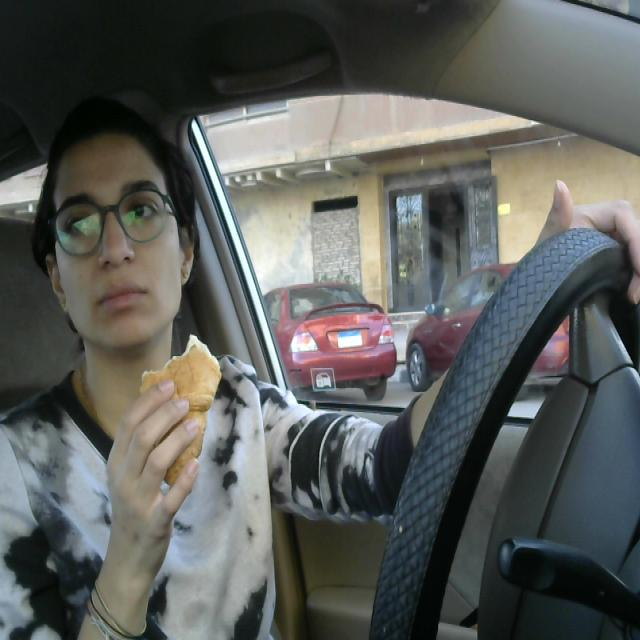eating: (138, 329, 224, 495)
